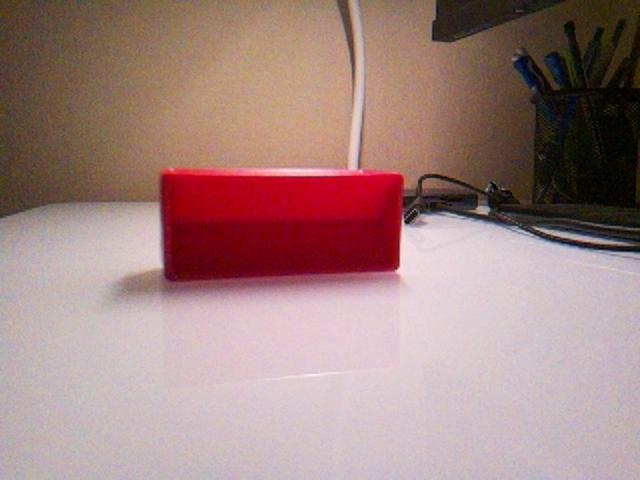red: (158, 165, 405, 283)
